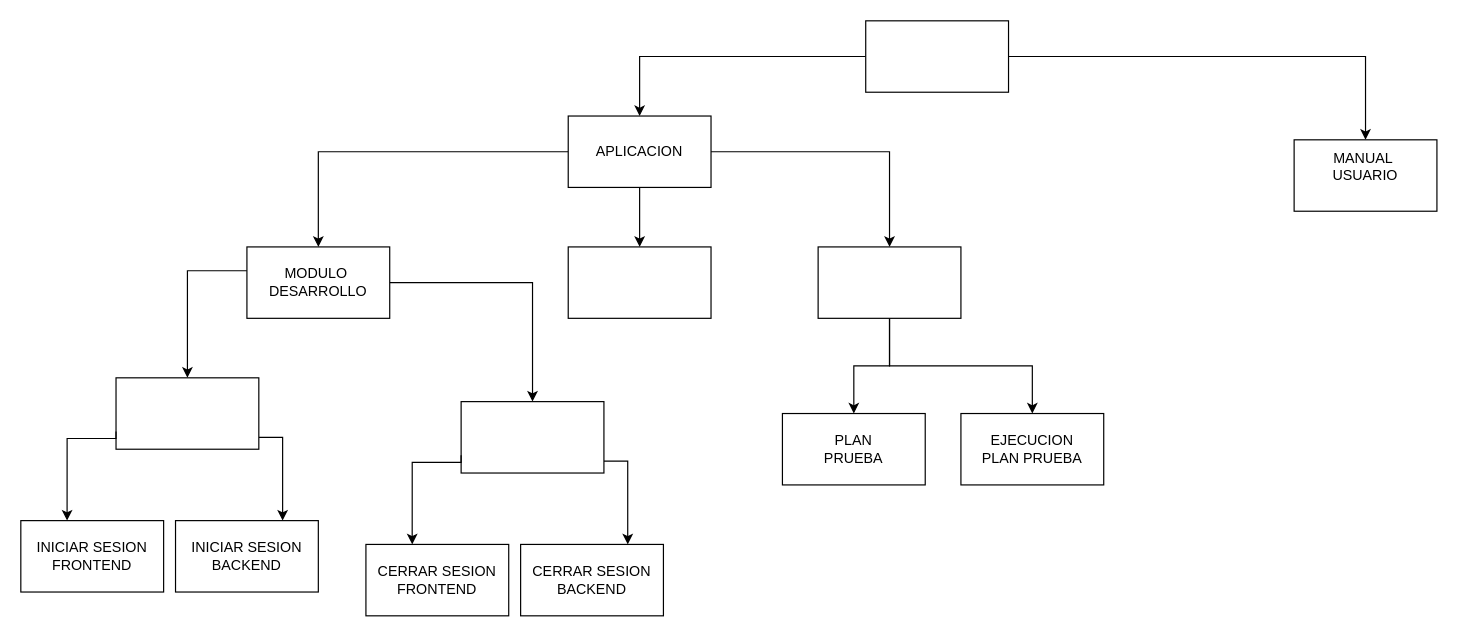
This 1458x637 diagram has some shape labels left out. Each missing label, with the box of its shape:
FUNCION CERRAR SESION: (460, 400, 604, 473)
FUNCION INICIAR SESION: (115, 377, 259, 449)
MODULO DISEÑO: (567, 246, 711, 318)
MODULO PRUEBAS: (817, 246, 961, 318)
PROYECTO: (865, 20, 1009, 92)
